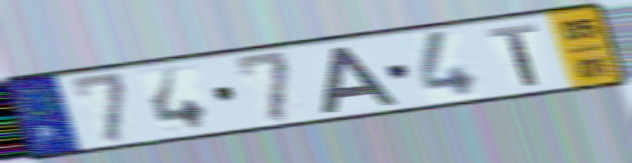4: (418, 28, 481, 102), (152, 64, 215, 133)
7: (231, 47, 294, 125), (67, 68, 130, 146)
A: (319, 43, 402, 116)
T: (484, 21, 542, 88)
